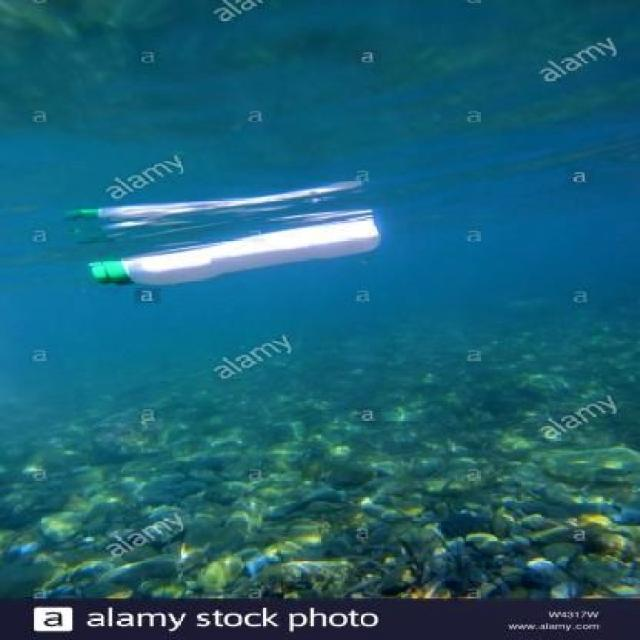pbottle: (84, 214, 385, 288)
